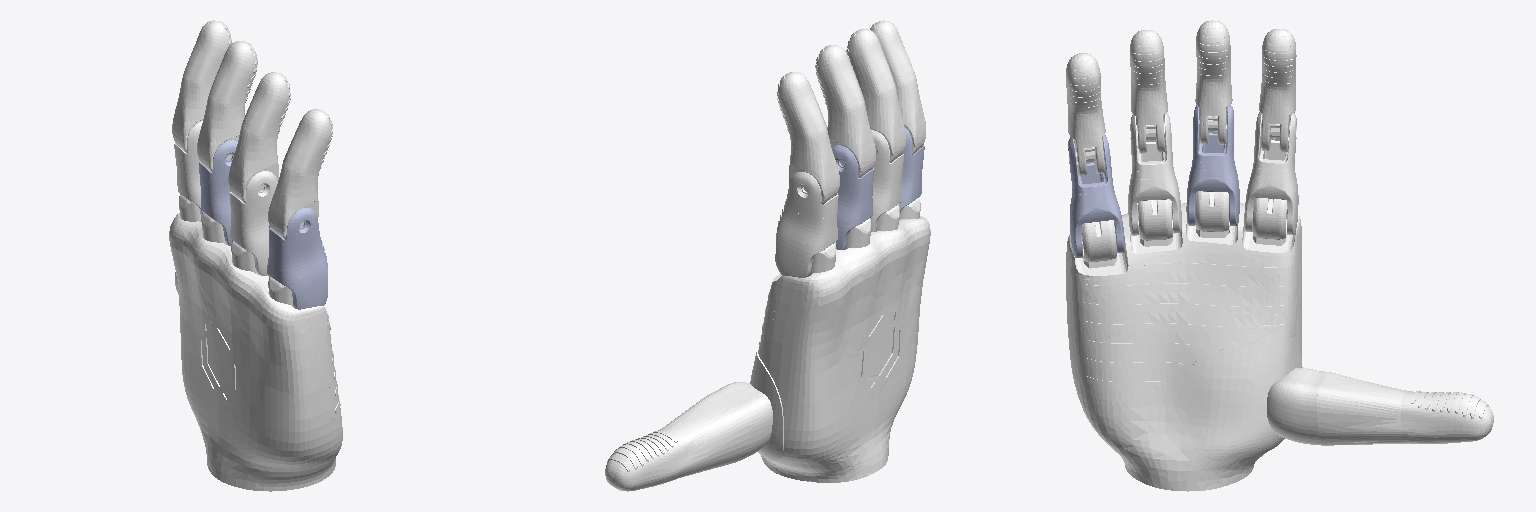
robot.urdf — URDF Final Assembly V13.SLDASM:
<?xml version="1.0" encoding="utf-8"?>
<!-- This URDF was automatically created by SolidWorks to URDF Exporter! Originally created by [author] ([email redacted]) 
     Commit Version: 1.6.0-4-g7f85cfe  Build Version: 1.6.7995.38578
     For more information, please see http://wiki.ros.org/sw_urdf_exporter -->
<robot
  name="URDF Final Assembly V13.SLDASM">
  <link
    name="Palm">
    <inertial>
      <origin
        xyz="-0.00600419847473986 0.000498239708699869 0.0503832932247919"
        rpy="0 0 0" />
      <mass
        value="0.283128265195557" />
      <inertia
        ixx="0.000287564837192637"
        ixy="1.3506419466914E-06"
        ixz="2.60789464417926E-05"
        iyy="0.00018758839367272"
        iyz="-6.92223385784338E-06"
        izz="0.00016182184678675" />
    </inertial>
    <visual>
      <origin
        xyz="0 0 0"
        rpy="0 0 0" />
      <geometry>
        <mesh filename="meshes/visual/palm.obj" />
      </geometry>
      <material
        name="">
        <color
          rgba="1 1 1 1" />
      </material>
    </visual>
    <collision>
      <origin
        xyz="0 0 0"
        rpy="0 0 0" />
      <geometry>
        <mesh           filename="meshes/collision/palm_collide_vhacd.obj" />
      </geometry>
    </collision>
  </link>
  <link
    name="Index_Proximal">
    <inertial>
      <origin
        xyz="0.012312 0.00144 0.015605"
        rpy="0 0 0" />
      <mass
        value="0.2557" />
      <inertia
        ixx="4.2833E-06"
        ixy="-7.57E-09"
        ixz="-8.0748E-08"
        iyy="4.5982E-06"
        iyz="-2.8088E-07"
        izz="1.6265E-06" />
    </inertial>
    <visual>
      <origin
        xyz="0 0 0"
        rpy="0 0 0" />
      <geometry>
        <mesh
          filename="meshes/visual/index_finger_proximal.obj" />
      </geometry>
      <material
        name="">
        <color
          rgba="1 1 1 1" />
      </material>
    </visual>
    <collision>
      <origin
        xyz="0 0 0"
        rpy="0 0 0" />
      <geometry>
        <mesh
          filename="meshes/collision/index_proximal_collide_vhacd.obj" />
      </geometry>
    </collision>
  </link>
  <joint
    name="Index_MCP_Joint"
    type="revolute">
    <origin
      xyz="-0.009296324611102 0.0322863306879901 0.104342484724909"
      rpy="0.0471328584676346 -0.192922109497075 -0.0745251072270674" />
    <parent
      link="Palm" />
    <child
      link="Index_Proximal" />
    <axis
      xyz="0 0.995640986756603 -0.0932685664644748" />
    <limit
      lower="0"
      upper="1.774"
      effort="0"
      velocity="0" />
  </joint>
  <link
    name="Index_Distal">
    <inertial>
      <origin
        xyz="0.00245853306411007 -4.18781655450728E-07 0.0189936537865397"
        rpy="0 0 0" />
      <mass
        value="0.162350311115962" />
      <inertia
        ixx="1.8466183514147E-06"
        ixy="-7.23729006666512E-12"
        ixz="-3.4435261146249E-07"
        iyy="1.98212521922435E-06"
        iyz="-2.18403904879459E-11"
        izz="3.32767630758346E-07" />
    </inertial>
    <visual>
      <origin
        xyz="0 0 0"
        rpy="0 0 0" />
      <geometry>
        <mesh
          filename="meshes/visual/index_finger_distal.obj" />
      </geometry>
      <material
        name="">
        <color
          rgba="1 1 1 1" />
      </material>
    </visual>
    <collision>
      <origin
        xyz="0 0 0"
        rpy="0 0 0" />
      <geometry>
        <mesh
          filename="meshes/collision/index_distal_collide_vhacd.obj" />
      </geometry>
    </collision>
  </link>
  <joint
    name="Index_PIP_Joint"
    type="revolute">
    <origin
      xyz="0.000620549170709181 0.00320952945136043 0.0341394661742151"
      rpy="-0.0955181403529831 0.210459066367382 -0.0200128224323877" />
    <parent
      link="Index_Proximal" />
    <child
      link="Index_Distal" />
    <axis
      xyz="0 1 0" />
    <limit
      lower="0"
      upper="1.571"
      effort="0"
      velocity="0" />
  </joint>
  
  
  <link
    name="Middle_Proximal">
    <inertial>
      <origin
        xyz="0.0123125081237437 -2.17566285766746E-05 0.0156706255149206"
        rpy="0 0 0" />
      <mass
        value="0.1255696641629694" />
      <inertia
        ixx="4.28322654679413E-06"
        ixy="6.89190051105612E-12"
        ixz="-8.10707532421487E-08"
        iyy="4.62440324709858E-06"
        iyz="-3.3802085650703E-11"
        izz="1.60017622490279E-06" />
    </inertial>
    <visual>
      <origin
        xyz="0 0 0"
        rpy="0 0 0" />
      <geometry>
        <mesh
          filename="meshes/visual/middle_finger_proximal.obj" />
      </geometry>
      <material
        name="">
        <color
          rgba="0.792156862745098 0.819607843137255 0.933333333333333 1" />
      </material>
    </visual>
    <collision>
      <origin
        xyz="0 0 0"
        rpy="0 0 0" />
      <geometry>
        <mesh
          filename="meshes/collision/middle_proximal_collide_vhacd.obj" />
      </geometry>
    </collision>
  </link>
  <joint
    name="Middle_MCP_Joint"
    type="revolute">
    <origin
      xyz="-0.0120427537003113 0.00944933791464269 0.106250881297933"
      rpy="-0.000914728685283388 -0.180273058292669 -0.0465850254973407" />
    <parent
      link="Palm" />
    <child
      link="Middle_Proximal" />
    <axis
      xyz="0 1 0" />
    <limit
      lower="0"
      upper="1774"
      effort="0"
      velocity="0" />
  </joint>
  <link
    name="Middle_Distal">
    <inertial>
      <origin
        xyz="0.00245853151741986 -4.19305877163642E-07 0.0189936542197434"
        rpy="0 0 0" />
      <mass
        value="0.10862350138399462" />
      <inertia
        ixx="1.84661785055326E-06"
        ixy="-7.22127327412518E-12"
        ixz="-3.44352616543183E-07"
        iyy="1.98212468335388E-06"
        iyz="-2.19017741152441E-11"
        izz="3.32767571423503E-07" />
    </inertial>
    <visual>
      <origin
        xyz="0 0 0"
        rpy="0 0 0" />
      <geometry>
        <mesh
          filename="meshes/visual/middle_finger_distal.obj" />
      </geometry>
      <material
        name="">
        <color
          rgba="1 1 1 1" />
      </material>
    </visual>
    <collision>
      <origin
        xyz="0 0 0"
        rpy="0 0 0" />
      <geometry>
        <mesh
          filename="meshes/collision/middle_distal_collide_vhacd.obj" />
      </geometry>
    </collision>
  </link>
  <joint
    name="Middle_PIP_Joint"
    type="revolute">
    <origin
      xyz="0.000620549170685131 1.14000000000832E-05 0.0342900000000001"
      rpy="0 0.189617527172128 0" />
    <parent
      link="Middle_Proximal" />
    <child
      link="Middle_Distal" />
    <axis
      xyz="0 1 0" />
    <limit
      lower="0"
      upper="1.571"
      effort="0"
      velocity="0" />
  </joint>
  
  
  <link
    name="Ring_Proximal">
    <inertial>
      <origin
        xyz="0.0123125207464881 -2.17823718600251E-05 0.0156706932395697"
        rpy="0 0 0" />
      <mass
        value=".1255697387508071" />
      <inertia
        ixx="4.28323805639626E-06"
        ixy="1.01176446317583E-11"
        ixz="-8.10600099492174E-08"
        iyy="4.62442001199592E-06"
        iyz="-4.7608893122507E-11"
        izz="1.60017993990507E-06" />
    </inertial>
    <visual>
      <origin
        xyz="0 0 0"
        rpy="0 0 0" />
      <geometry>
        <mesh
          filename="meshes/visual/ring_finger_proximal.obj" />
      </geometry>
      <material
        name="">
        <color
          rgba="1 1 1 1" />
      </material>
    </visual>
    <collision>
      <origin
        xyz="0 0 0"
        rpy="0 0 0" />
      <geometry>
        <mesh
          filename="meshes/collision/ring_proximal_collide_vhacd.obj" />
      </geometry>
    </collision>
  </link>
  <joint
    name="Ring_MCP_Joint"
    type="revolute">
    <origin
      xyz="-0.0116847742412016 -0.0133562631822687 0.102751259121448"
      rpy="0.0459314437008575 -0.181780461299587 0.0190423185017122" />
    <parent
      link="Palm" />
    <child
      link="Ring_Proximal" />
    <axis
      xyz="0 1 0" />
    <limit
      lower="0"
      upper="1.774"
      effort="0"
      velocity="0" />
  </joint>
  <link
    name="Ring_Distal">
    <inertial>
      <origin
        xyz="0.0024585307505642 -4.18275792434322E-07 0.0189936617903615"
        rpy="0 0 0" />
      <mass
        value="0.10862350282783975" />
      <inertia
        ixx="1.84661792068038E-06"
        ixy="-7.25121850519365E-12"
        ixz="-3.44352852865657E-07"
        iyy="1.98212484891192E-06"
        iyz="-2.16467591728085E-11"
        izz="3.32767548883008E-07" />
    </inertial>
    <visual>
      <origin
        xyz="0 0 0"
        rpy="0 0 0" />
      <geometry>
        <mesh
          filename="meshes/visual/ring_finger_distal.obj" />
      </geometry>
      <material
        name="">
        <color
          rgba="1 1 1 1" />
      </material>
    </visual>
    <collision>
      <origin
        xyz="0 0 0"
        rpy="0 0 0" />
      <geometry>
        <mesh
          filename="meshes/collision/ring_distal_collide_vhacd.obj" />
      </geometry>
    </collision>
  </link>
  <joint
    name="Ring_PIP_Joint"
    type="revolute">
    <origin
      xyz="0.000620549170687899 -1.14000000020695E-05 0.0342900000000016"
      rpy="0 0.197449031308958 0" />
    <parent
      link="Ring_Proximal" />
    <child
      link="Ring_Distal" />
    <axis
      xyz="0 1 0" />
    <limit
      lower="0"
      upper="1.571"
      effort="0"
      velocity="0" />
  </joint>
  <link
    name="Pinky_Proximal">
    <inertial>
      <origin
        xyz="0.0123124897865038 -2.17987662613772E-05 0.0156707315598971"
        rpy="0 0 0" />
      <mass
        value="0.1255698137333334" />
      <inertia
        ixx="4.28327141651743E-06"
        ixy="1.17793008740961E-11"
        ixz="-8.10692182361396E-08"
        iyy="4.62445427227366E-06"
        iyz="-4.14360923076788E-11"
        izz="1.60018235924362E-06" />
    </inertial>
    <visual>
      <origin
        xyz="0 0 0"
        rpy="0 0 0" />
      <geometry>
        <mesh
          filename="meshes/visual/pinky_proximal.obj" />
      </geometry>
      <material
        name="">
        <color
          rgba="0.792156862745098 0.819607843137255 0.933333333333333 1" />
      </material>
    </visual>
    <collision>
      <origin
        xyz="0 0 0"
        rpy="0 0 0" />
      <geometry>
        <mesh
          filename="meshes/collision/pinky_proximal_collide_vhacd.obj" />
      </geometry>
    </collision>
  </link>
  <joint
    name="Pinky_MCP_Joint"
    type="revolute">
    <origin
      xyz="-0.00799570272608163 -0.0359407309047329 0.0952807021942017"
      rpy="0.0845713568626855 -0.166953208660193 0.0937969039090452" />
    <parent
      link="Palm" />
    <child
      link="Pinky_Proximal" />
    <axis
      xyz="0 1 0" />
    <limit
      lower="0"
      upper="1.774"
      effort="0"
      velocity="0" />
  </joint>
  <link
    name="Pinky_Distal">
    <inertial>
      <origin
        xyz="0.00245853316480749 -4.16761349153472E-07 0.0189936662511309"
        rpy="0 0 0" />
      <mass
        value="0.1162350966741739" />
      <inertia
        ixx="1.84661928481475E-06"
        ixy="-7.25016867395057E-12"
        ixz="-3.44352811897793E-07"
        iyy="1.98212629187236E-06"
        iyz="-2.14799856901044E-11"
        izz="3.32767712964309E-07" />
    </inertial>
    <visual>
      <origin
        xyz="0 0 0"
        rpy="0 0 0" />
      <geometry>
        <mesh
          filename="meshes/visual/pinky_distal.obj" />
      </geometry>
      <material
        name="">
        <color
          rgba="1 1 1 1" />
      </material>
    </visual>
    <collision>
      <origin
        xyz="0 0 0"
        rpy="0 0 0" />
      <geometry>
        <mesh
          filename="meshes/collision/pinky_distal_collide_vhacd.obj" />
      </geometry>
    </collision>
  </link>
  <joint
    name="Pinky_PIP_Joint"
    type="revolute">
    <origin
      xyz="0.00062055 1.14E-05 0.03429"
      rpy="0 0.19757 0" />
    <parent
      link="Pinky_Proximal" />
    <child
      link="Pinky_Distal" />
    <axis
      xyz="0 1 0" />
    <limit
      lower="0"
      upper="1.571"
      effort="0"
      velocity="0" />
  </joint>
  
  <link
    name="Metacarpal">
    <inertial>
      <origin
        xyz="8.59615600912883E-05 0.0074922675524774 0.000693795385077925"
        rpy="0 0 0" />
      <mass
        value="0.10455898019372728" />
      <inertia
        ixx="4.15932525574432E-07"
        ixy="1.74857789724358E-09"
        ixz="5.64846087992515E-10"
        iyy="1.42106909934071E-07"
        iyz="-3.7788133005485E-08"
        izz="3.72950561408405E-07" />
    </inertial>
    <visual>
      <origin
        xyz="0 0 0"
        rpy="0 0 0" />
      <geometry>
        <mesh
          filename="meshes/visual/Metacarpal.STL" />
      </geometry>
      <material
        name="">
        <color
          rgba="0.792156862745098 0.819607843137255 0.933333333333333 1" />
      </material>
    </visual>
    <collision>
      <origin
        xyz="0 0 0"
        rpy="0 0 0" />
      <geometry>
        <mesh
          filename="meshes/visual/Metacarpal.STL" />
      </geometry>
    </collision>
  </link>
  <joint
    name="Metacarpal_Joint"
    type="revolute">
    <origin
      xyz="0.0079928 0.025391 0.032434"
      rpy="0.074184 -0.038292 -0.22638" />
    <parent
      link="Palm" />
    <child
      link="Metacarpal" />
    <axis
      xyz="0 0 -1" />
    <limit
      lower="0"
      upper="1.774"
      effort="0"
      velocity="0" />
  </joint>
  <link
    name="Thumb">
    <inertial>
      <origin
        xyz="0.0150108995559628 -6.94221927581562E-05 -0.00633804475709548"
        rpy="0 0 0" />
      <mass
        value="0.1599545776835582" />
      <inertia
        ixx="4.33243046860296E-06"
        ixy="-8.34351740009724E-09"
        ixz="9.093059581493E-07"
        iyy="1.62169307375563E-05"
        iyz="4.59078110469088E-09"
        izz="1.61222265640691E-05" />
    </inertial>
    <visual>
      <origin
        xyz="0 0 0"
        rpy="0 0 0" />
      <geometry>
        <mesh
          filename="meshes/visual/thumb.obj" />
      </geometry>
      <material
        name="">
        <color
          rgba="1 1 1 1" />
      </material>
    </visual>
    <collision>
      <origin
        xyz="0 0 0"
        rpy="0 0 0" />
      <geometry>
        <mesh
          filename="meshes/collision/thumb_collide_vhacd.obj" />
      </geometry>
    </collision>
  </link>
  <joint
    name="Thumb_Joint"
    type="revolute">
    <origin
      xyz="0 0.01905 0.0022926"
      rpy="0 0 1.5708" />
    <parent
      link="Metacarpal" />
    <child
      link="Thumb" />
    <axis
      xyz="0 -1 0" />
    <limit
      lower="0"
      upper="1.774"
      effort="0"
      velocity="0" />
  </joint>
  
</robot>

--- Facts derived from the render (not from the file) ---
3 views of the same robot in one strip: view 1: azimuth 30°, elevation 25°; view 2: azimuth 150°, elevation 25°; view 3: azimuth 270°, elevation 25° (orthographic).
Robot: URDF Final Assembly V13.SLDASM — 11 links, 10 joints (10 revolute); root link Palm; default pose: every joint at zero.
Links seen in each view (by area): view 1: Palm, Pinky_Distal, Ring_Distal, Pinky_Proximal, Middle_Distal, Index_Distal, Ring_Proximal, Middle_Proximal, Index_Proximal; view 2: Palm, Thumb, Index_Proximal, Index_Distal, Middle_Distal, Ring_Distal, Pinky_Distal, Middle_Proximal, Ring_Proximal, Pinky_Proximal; view 3: Palm, Thumb, Middle_Distal, Index_Distal, Ring_Distal, Pinky_Distal, Middle_Proximal, Index_Proximal, Pinky_Proximal, Ring_Proximal.
Boxes of the visible links, bbox=[...] form: Palm: bbox=[169, 194, 342, 491]; Pinky_Distal: bbox=[268, 109, 332, 239]; Ring_Distal: bbox=[228, 72, 290, 202]; Pinky_Proximal: bbox=[267, 208, 327, 309]; Middle_Distal: bbox=[197, 41, 257, 171]; Index_Distal: bbox=[172, 20, 231, 152]; Ring_Proximal: bbox=[230, 171, 277, 275]; Middle_Proximal: bbox=[199, 140, 237, 245]; Index_Proximal: bbox=[174, 121, 202, 218]; Palm: bbox=[750, 198, 930, 482]; Thumb: bbox=[605, 382, 772, 491]; Index_Proximal: bbox=[775, 172, 838, 277]; Index_Distal: bbox=[777, 72, 839, 204]; Middle_Distal: bbox=[815, 45, 875, 177]; Ring_Distal: bbox=[846, 29, 905, 162]; Pinky_Distal: bbox=[870, 20, 925, 154]; Middle_Proximal: bbox=[831, 145, 873, 249]; Ring_Proximal: bbox=[870, 130, 903, 231]; Pinky_Proximal: bbox=[899, 128, 924, 212]; Palm: bbox=[1066, 191, 1302, 491]; Thumb: bbox=[1267, 368, 1493, 445]; Middle_Distal: bbox=[1195, 20, 1232, 144]; Index_Distal: bbox=[1259, 29, 1296, 152]; Ring_Distal: bbox=[1130, 30, 1167, 153]; Pinky_Distal: bbox=[1066, 53, 1105, 175]; Middle_Proximal: bbox=[1186, 105, 1239, 225]; Index_Proximal: bbox=[1244, 112, 1298, 234]; Pinky_Proximal: bbox=[1068, 135, 1124, 257]; Ring_Proximal: bbox=[1128, 113, 1181, 235].
Bounding box of the posed robot: 0.0655 × 0.168 × 0.1873 m (x, y, z).
11 mesh visuals loaded from 11 distinct referenced files (1 binary STL, 10 OBJ).